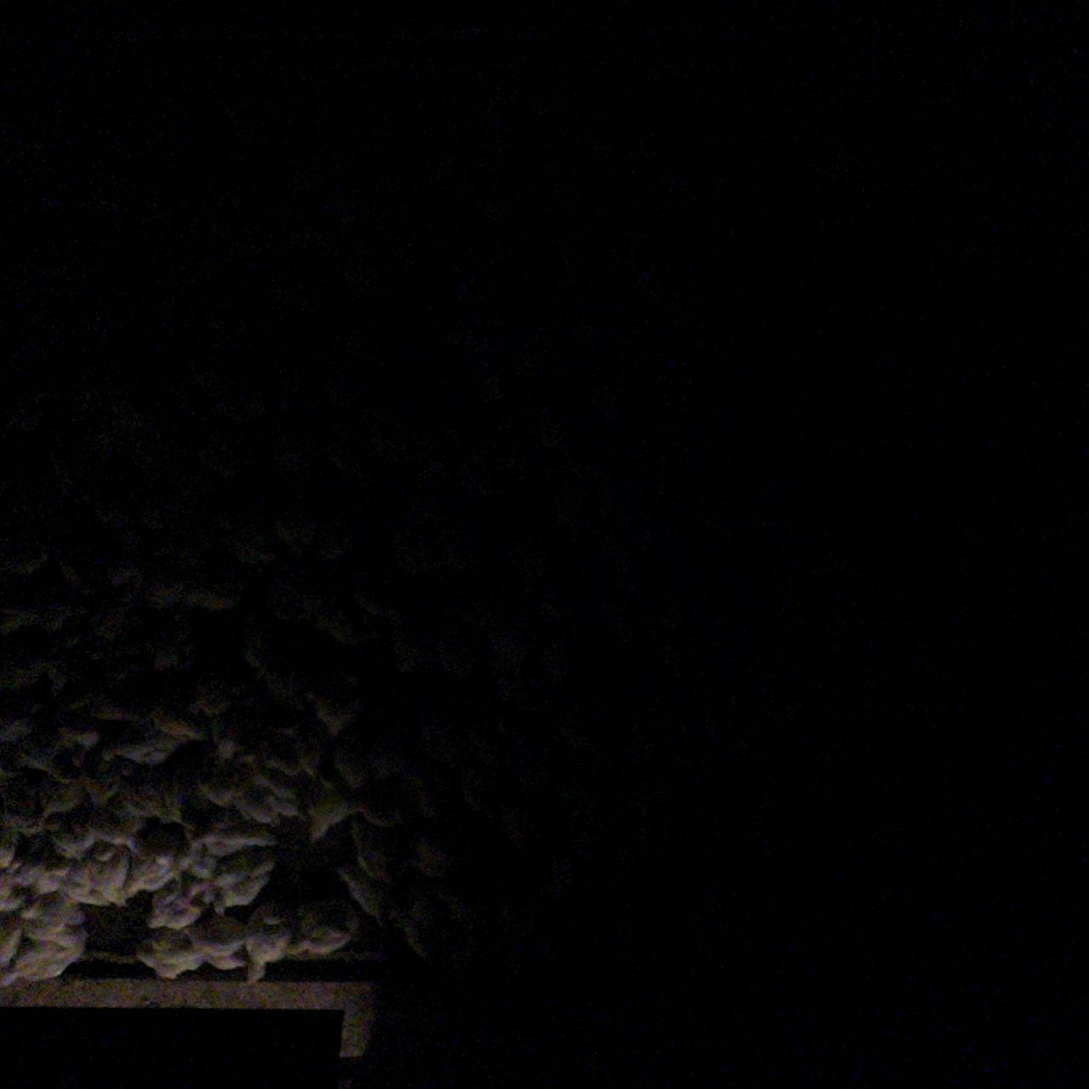chicken: (298, 777, 382, 843), (5, 930, 94, 989), (403, 898, 472, 972), (25, 716, 104, 775), (60, 847, 131, 908), (128, 937, 217, 984), (15, 894, 89, 949), (187, 814, 275, 860), (333, 853, 388, 926), (116, 846, 187, 901), (280, 725, 339, 791), (210, 701, 261, 777), (242, 920, 294, 989), (276, 910, 351, 957), (30, 771, 99, 821), (120, 781, 193, 827), (97, 729, 187, 766), (146, 698, 207, 752), (231, 785, 311, 824), (181, 926, 249, 971), (68, 688, 134, 734), (143, 888, 210, 932), (393, 622, 445, 678), (208, 870, 274, 912), (171, 827, 223, 877), (2, 801, 61, 845), (305, 524, 360, 570), (44, 813, 101, 857), (398, 843, 467, 876), (191, 767, 251, 804), (20, 856, 75, 895), (306, 699, 367, 734), (91, 610, 142, 650), (231, 643, 289, 675), (154, 637, 200, 673), (0, 549, 47, 584), (0, 596, 38, 637), (201, 577, 243, 614), (154, 570, 190, 613), (48, 651, 87, 690), (231, 535, 275, 569), (323, 608, 362, 644), (1, 922, 28, 973), (1, 839, 32, 881), (53, 552, 93, 584), (0, 706, 36, 741), (115, 557, 151, 592), (0, 659, 43, 684), (1, 876, 29, 914), (43, 604, 82, 630)
